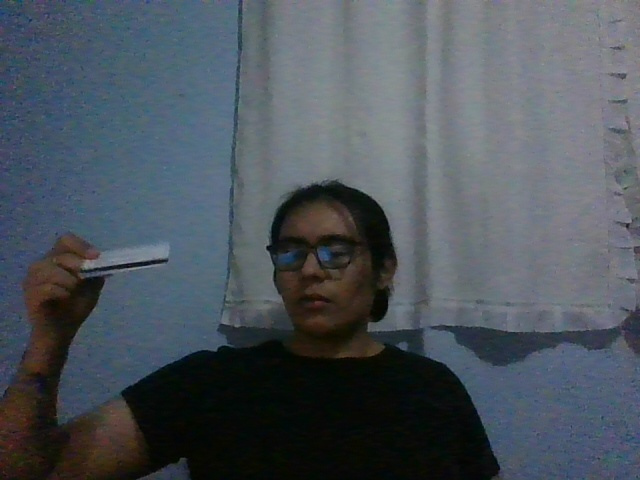tarjeta: (77, 241, 170, 280)
